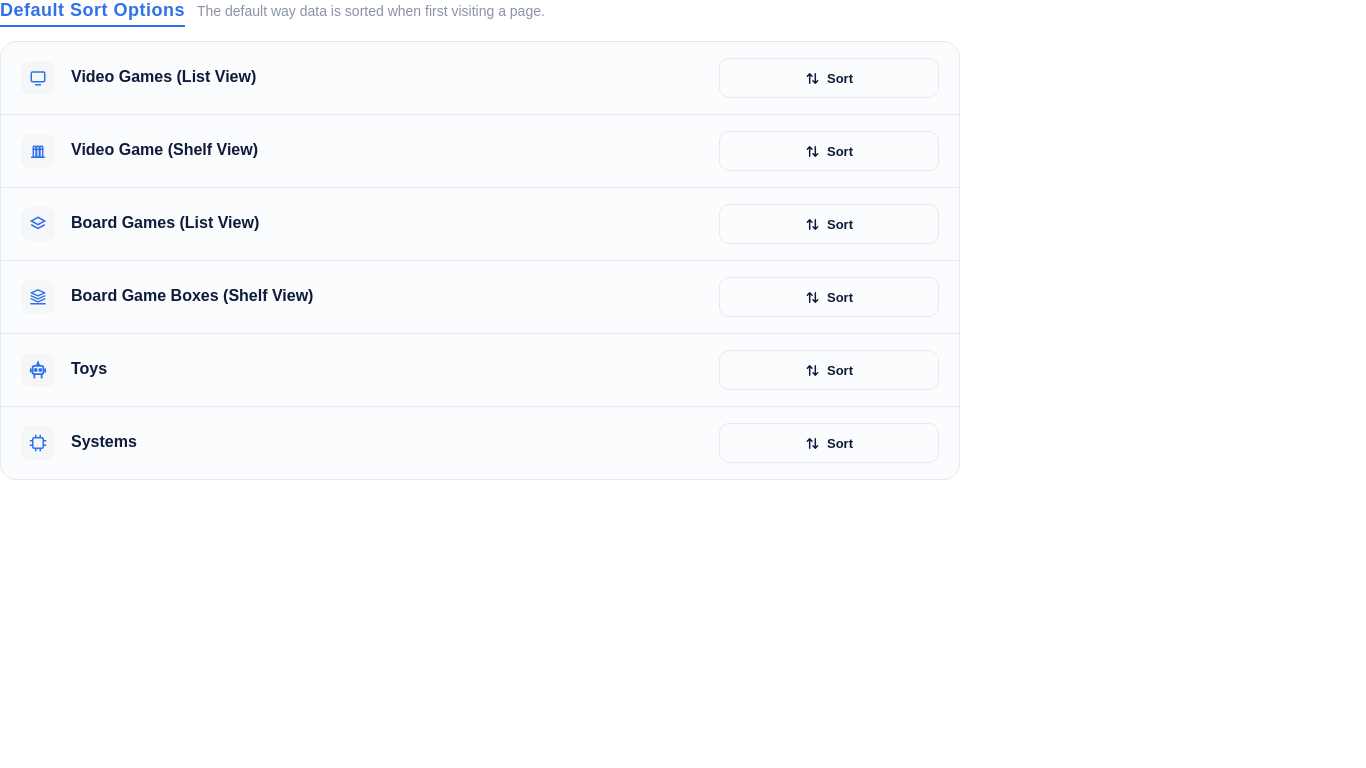
Test: DefaultSortSettings › persists an added level and commits it once the write succeeds
The image size is (1366, 768).
Click the button with aria-label "Default sort for Systems" at [829, 443], box x1=719 y1=423 x2=939 y2=463
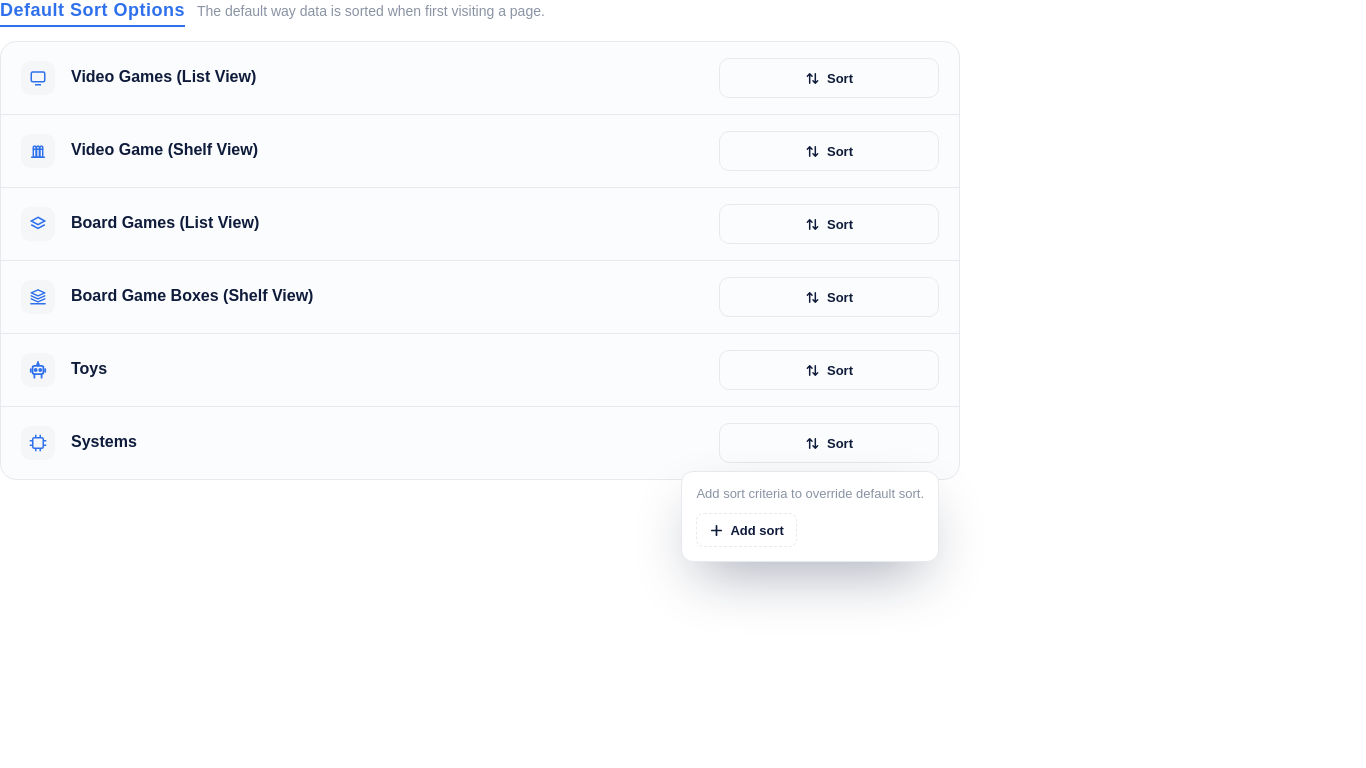
Click the button "Add sort" at [747, 530], box x1=696 y1=513 x2=797 y2=547
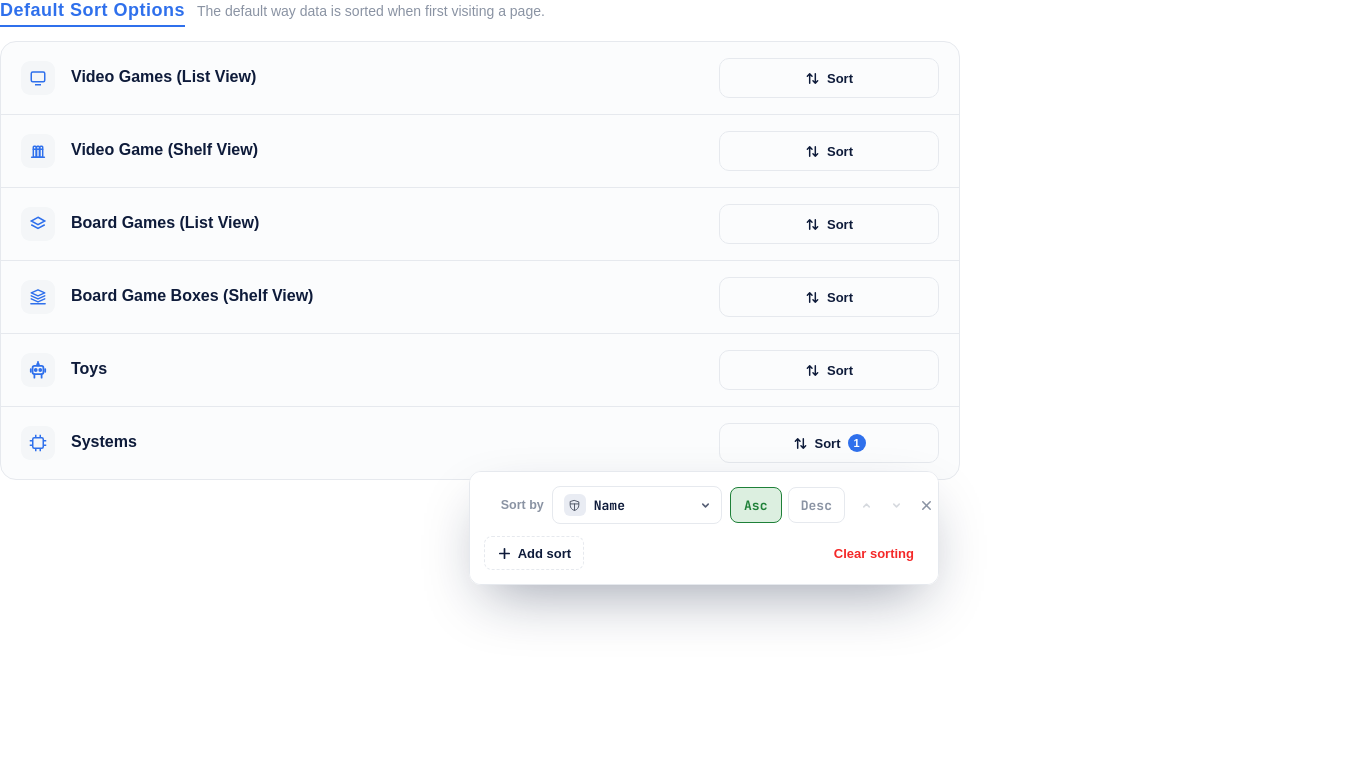
Check: the button with aria-label "Default sort for Systems" shows "1", box x1=719 y1=423 x2=939 y2=463
